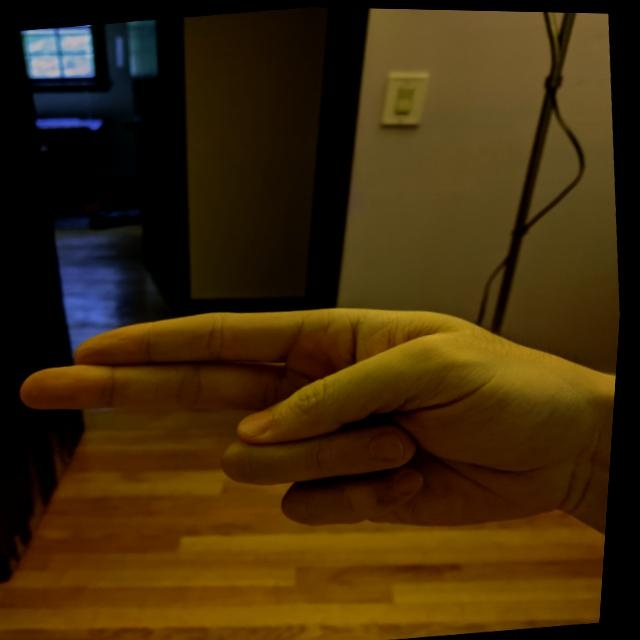H: (3, 263, 602, 579)
